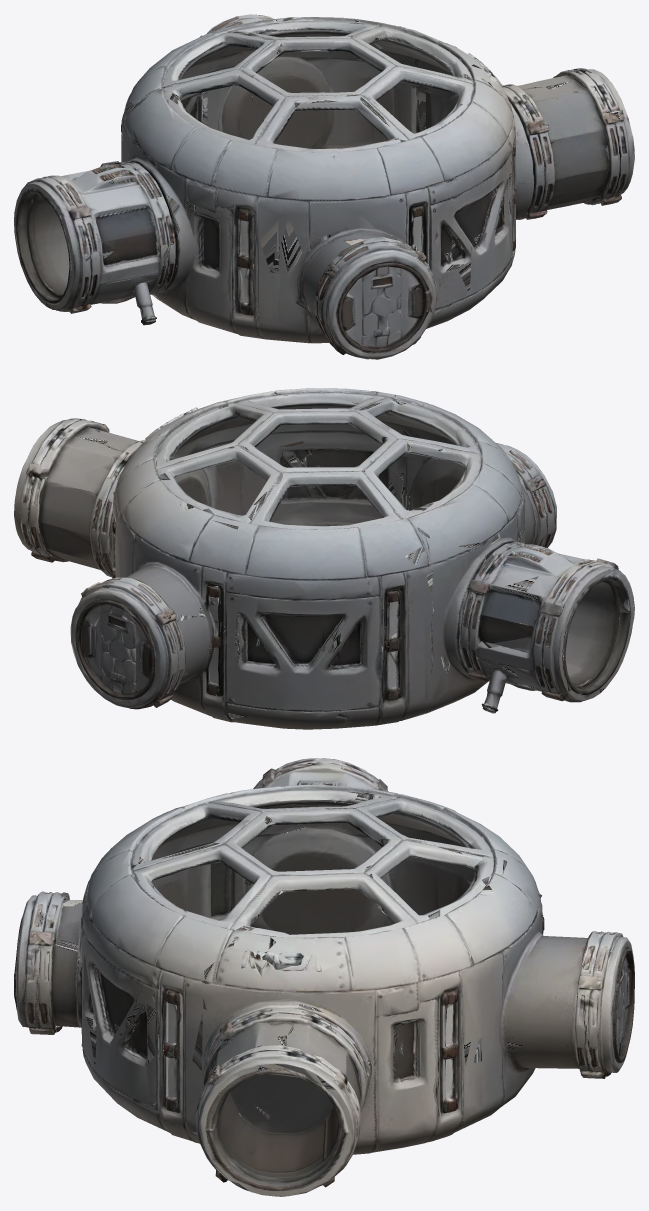
File: building-3.glb
The picture shows the model from 3 angles, top to bottom: view 1: azimuth 30°, elevation 25°; view 2: azimuth 150°, elevation 25°; view 3: azimuth 270°, elevation 25°; orthographic projection. The views are drawn at different scales.
Visible parts, largest first — view 1: tripo_node_9c12b514-2809-4197-a0df-c598d4b14119; view 2: tripo_node_9c12b514-2809-4197-a0df-c598d4b14119; view 3: tripo_node_9c12b514-2809-4197-a0df-c598d4b14119.
Boxes of the visible parts, x1,y1,x2,y2 form: tripo_node_9c12b514-2809-4197-a0df-c598d4b14119: (14,14,634,359); tripo_node_9c12b514-2809-4197-a0df-c598d4b14119: (14,388,634,729); tripo_node_9c12b514-2809-4197-a0df-c598d4b14119: (14,758,634,1196).
Size of the model in its own units: 0.9792 by 0.3647 by 0.8386.
1 material, 1 textured.
